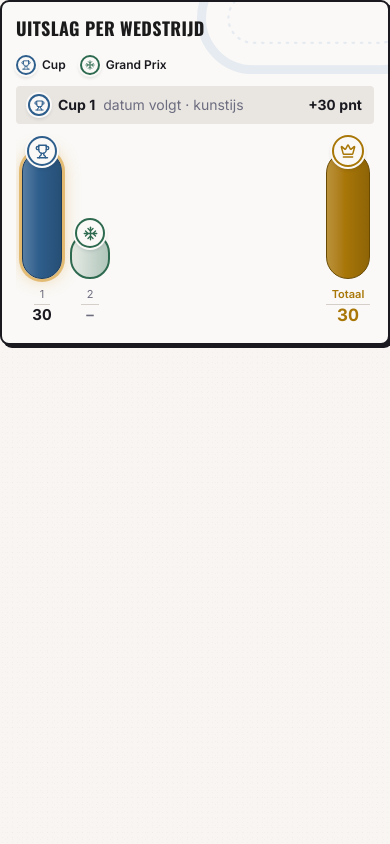
Test: WedstrijdBalk › tikken › zet een wedstrijd die nog komt in de strook, zonder hem te kiezen
This screenshot has width=390, height=844.
Step 1. Click the button named "Weissensee" → (90, 228), box [70,132,110,325]
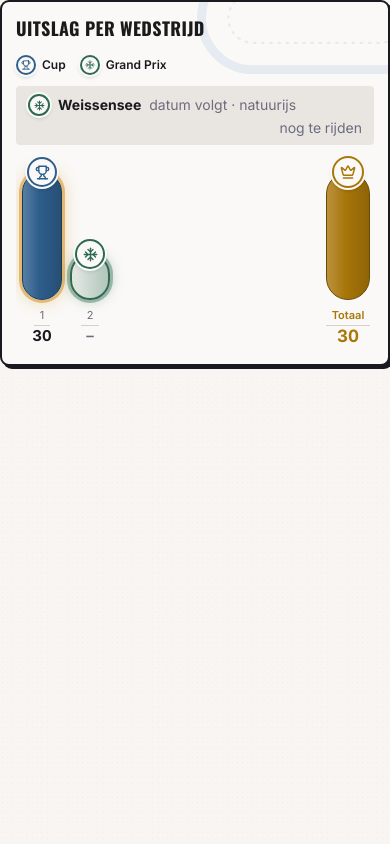
Now the message reads "Weissensee datum volgt · natuurijs nog te rijden", box [16,86,374,145]
Step 2. Click the button named "Cup 1" → (42, 250), box [22,153,62,346]
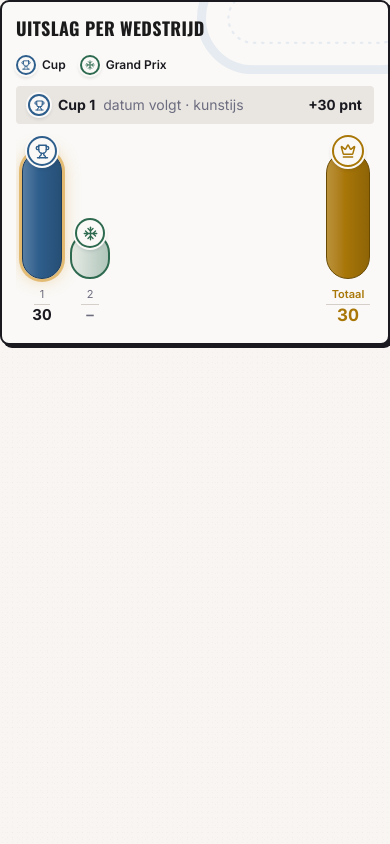
Now the message reads "Cup 1 datum volgt · kunstijs +30 pnt", box [16,86,374,124]
